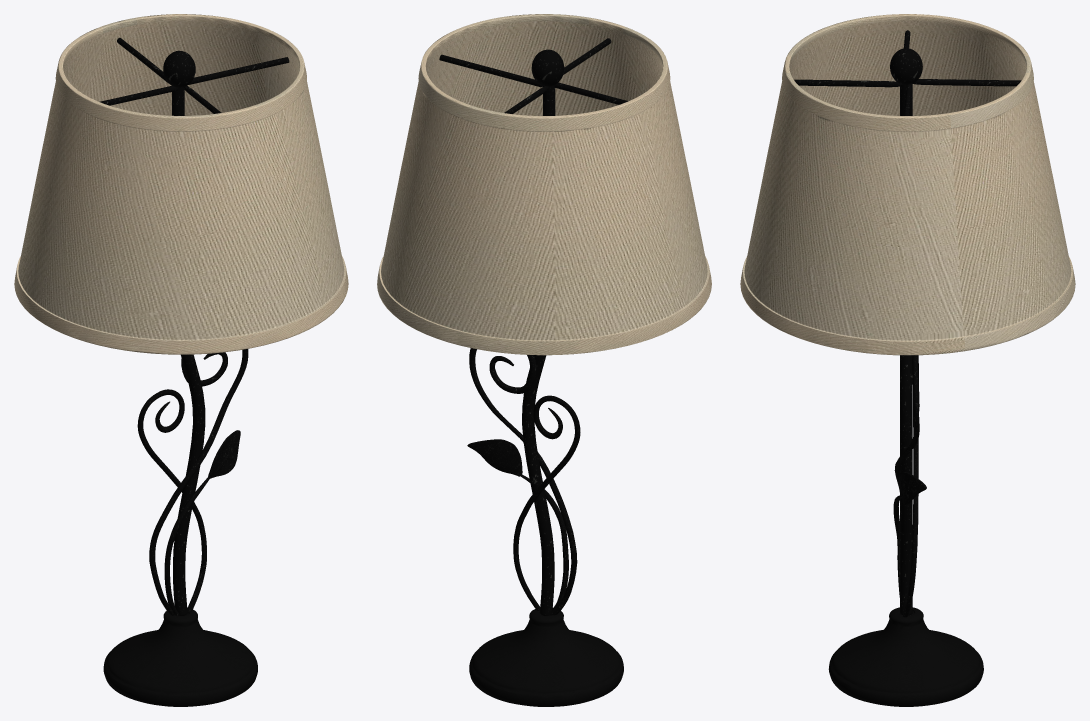
The model's file is ANDV2361.obj.
The picture shows the model from 3 angles, left to right: view 1: azimuth 30°, elevation 25°; view 2: azimuth 150°, elevation 25°; view 3: azimuth 270°, elevation 25°; orthographic projection.
Parts seen in each view (by area): view 1: not_clear_obj_2_v6, not_clear_obj_0_v6, not_clear_obj_1_v6; view 2: not_clear_obj_2_v6, not_clear_obj_0_v6, not_clear_obj_1_v6; view 3: not_clear_obj_2_v6, not_clear_obj_0_v6, not_clear_obj_1_v6.
Boxes of the visible parts, box(x1,y1,x2,y2) form: not_clear_obj_2_v6: box(18, 15, 344, 339); not_clear_obj_0_v6: box(99, 37, 289, 706); not_clear_obj_1_v6: box(14, 14, 348, 354); not_clear_obj_2_v6: box(381, 14, 707, 340); not_clear_obj_0_v6: box(439, 38, 627, 706); not_clear_obj_1_v6: box(377, 14, 711, 355); not_clear_obj_2_v6: box(744, 14, 1071, 340); not_clear_obj_0_v6: box(794, 30, 1021, 706); not_clear_obj_1_v6: box(740, 14, 1075, 355).
Size of what is drawn, in the model's own units: 31.75 by 65.35 by 31.74.
